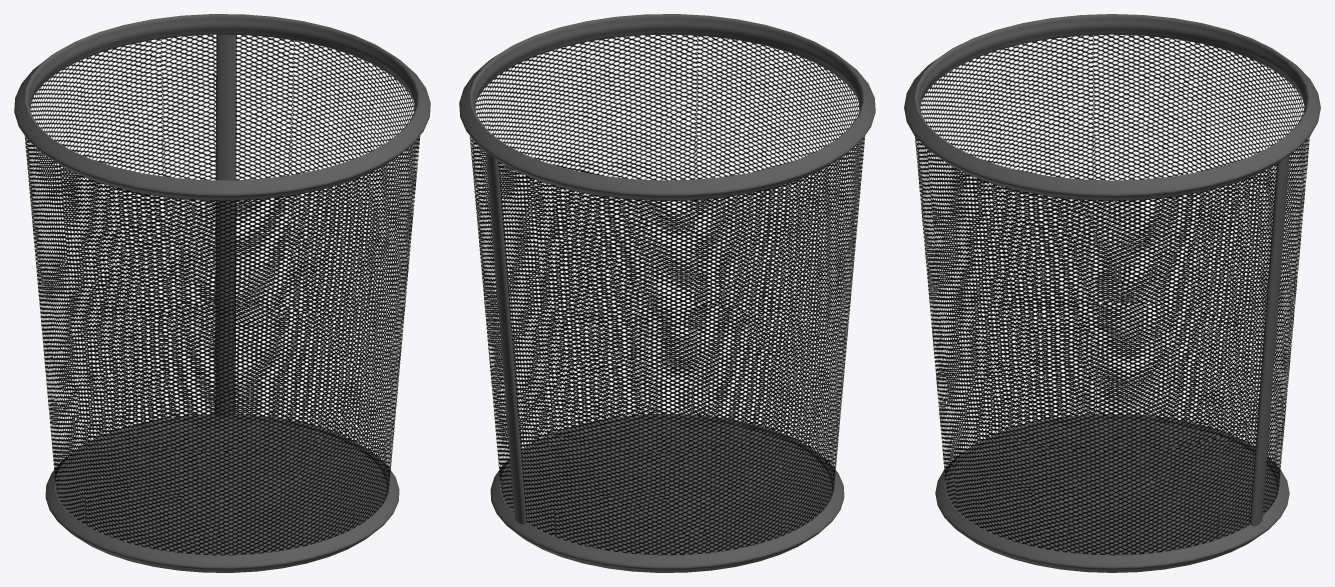
Rendered from TrashCan.glb.
3 views of the same model, side by side, from view 1: azimuth 30°, elevation 25°; view 2: azimuth 150°, elevation 25°; view 3: azimuth 270°, elevation 25° (orthographic).
Parts seen in each view (by area): view 1: Walls, Frame; view 2: Walls, Frame; view 3: Walls, Frame.
Boxes of the visible parts, x1,y1,x2,y2 form: Walls: (24, 34, 420, 555); Frame: (14, 14, 430, 572); Walls: (469, 34, 865, 555); Frame: (459, 14, 875, 572); Walls: (915, 34, 1309, 555); Frame: (904, 14, 1320, 572).
Size of the model in its own units: 2.47 by 2.65 by 2.47.
Materials: 2 (1 with a texture image).
